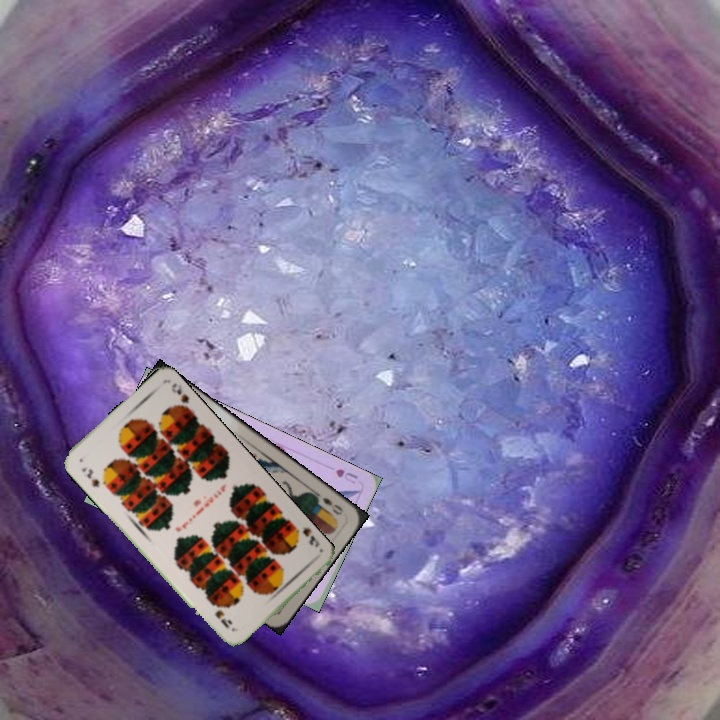EO: (312, 489, 346, 518)
HU: (332, 465, 360, 486)
S9: (288, 521, 322, 550), (77, 463, 102, 490)
